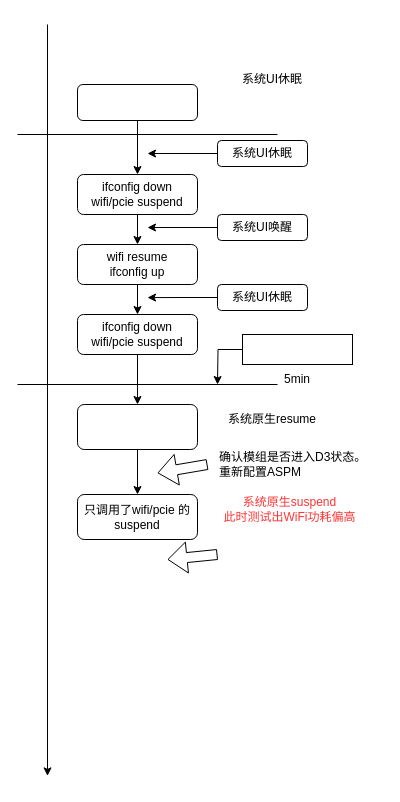
This 400x802 diagram has some shape labels left out. The shapes that lost their labels are listed below. From the top down, each one's centre as x and y in pixels, then its label:
the point at 137,102: 系统启动 ifconfig up
the point at 297,349: 这儿SOC会强制拉参考时钟
the point at 137,427: 只调用了wifi/pcie 的resume
